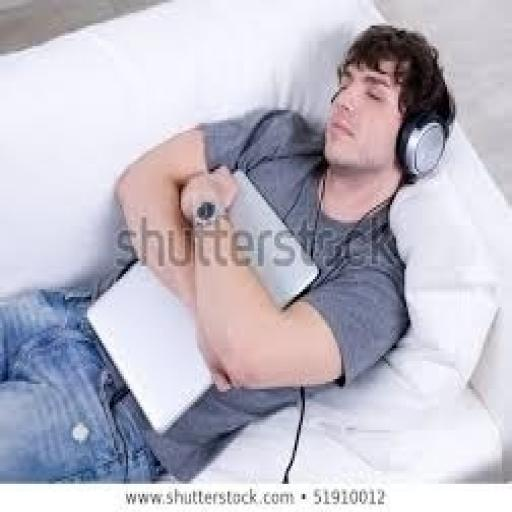listening_to_music: (0, 20, 457, 484)
